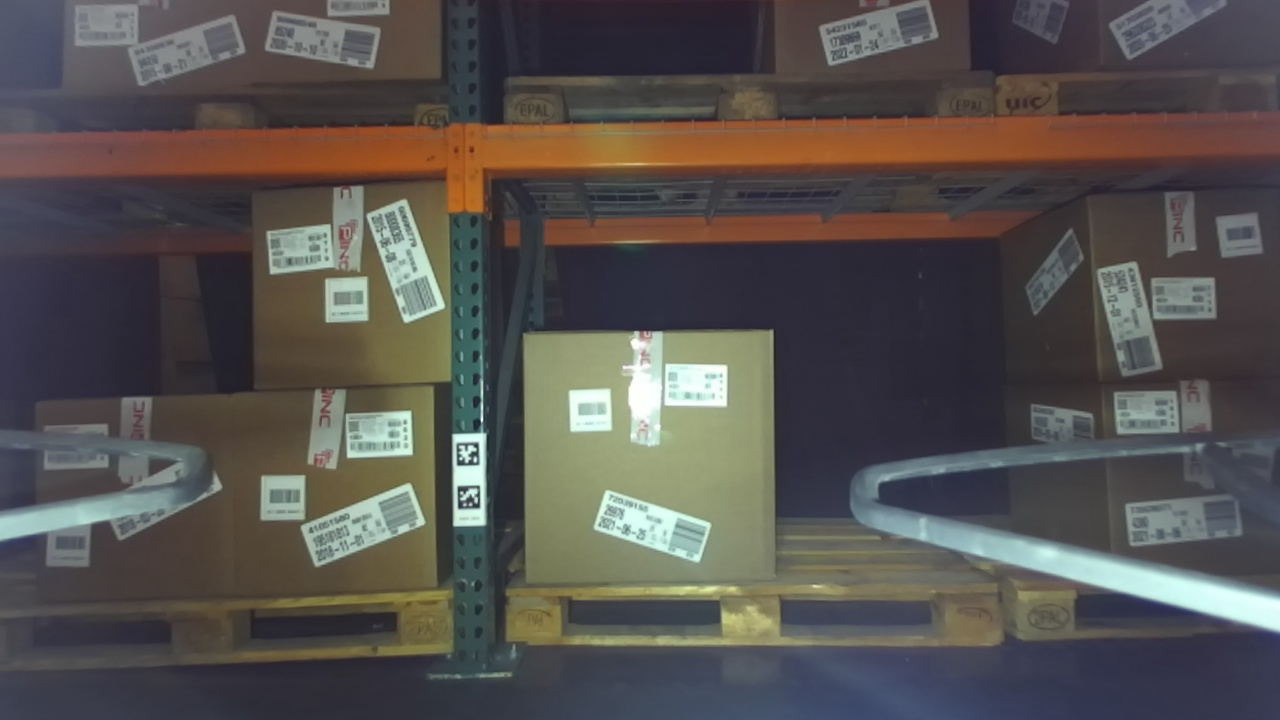box: (496, 316, 794, 607), (22, 376, 259, 633), (221, 374, 455, 609), (1076, 361, 1280, 618), (239, 168, 462, 394), (1061, 170, 1277, 403)
